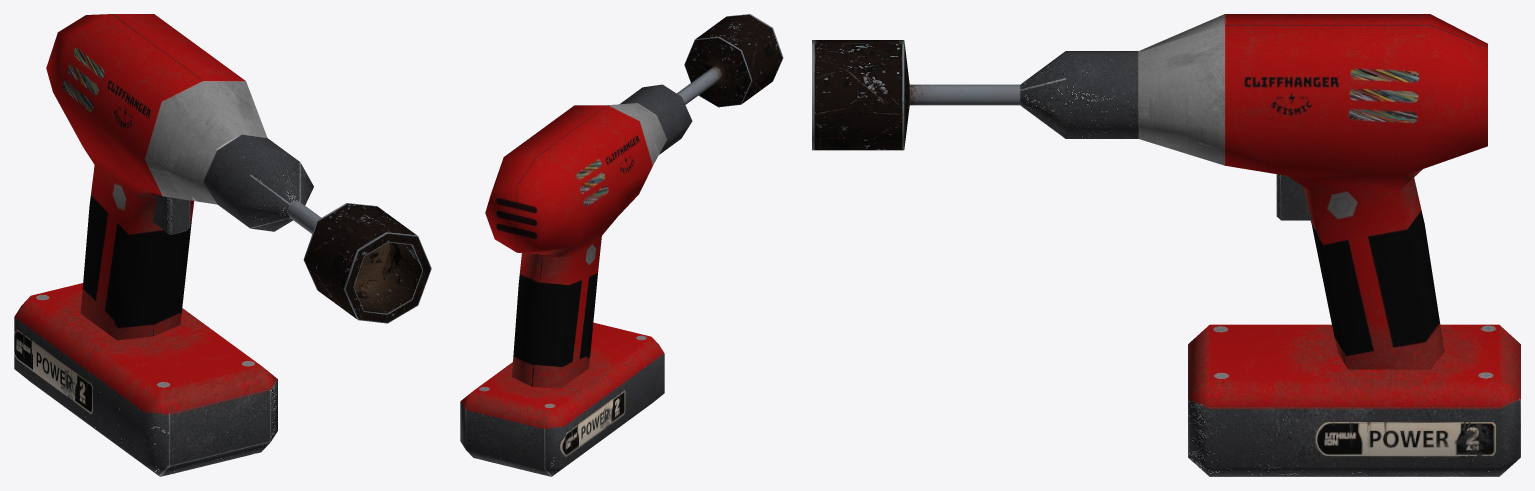
3 renders of one model, left to right at view 1: azimuth 30°, elevation 25°; view 2: azimuth 150°, elevation 25°; view 3: azimuth 270°, elevation 25°, orthographic. The views are drawn at different scales.
Visible parts, largest first — view 1: drill_geo polySurface111 polySurface110, drill_geo polySurface109, polySurface113 polySurface108 drill_geo polySurface119 polyS, drill_geo polySurface110 polySurface112, polySurface113 polySurface108 drill_geo polySurface116 polyS, drill_geo polySurface107, polySurface115 polySurface113 polySurface108 drill_geo, polySurface108 drill_geo polySurface114; view 2: drill_geo polySurface111 polySurface110, drill_geo polySurface109, polySurface113 polySurface108 drill_geo polySurface119 polyS, polySurface113 polySurface108 drill_geo polySurface116 poly, drill_geo polySurface110 polySurface112, polySurface108 drill_geo polySurface114; view 3: drill_geo polySurface111 polySurface110, drill_geo polySurface109, polySurface113 polySurface108 drill_geo polySurface119 polyS, drill_geo polySurface110 polySurface112, polySurface108 drill_geo polySurface114, drill_geo polySurface107.
Boxes of the visible parts, left/top/right/bottom form: drill_geo polySurface111 polySurface110: left=46, top=14, right=267, bottom=340; drill_geo polySurface109: left=14, top=283, right=277, bottom=476; polySurface113 polySurface108 drill_geo polySurface119 polyS: left=303, top=203, right=422, bottom=319; drill_geo polySurface110 polySurface112: left=203, top=134, right=313, bottom=231; polySurface113 polySurface108 drill_geo polySurface116 polyS: left=344, top=233, right=431, bottom=323; drill_geo polySurface107: left=152, top=194, right=190, bottom=234; polySurface115 polySurface113 polySurface108 drill_geo: left=354, top=242, right=390, bottom=290; polySurface108 drill_geo polySurface114: left=287, top=201, right=321, bottom=233; drill_geo polySurface111 polySurface110: left=485, top=103, right=666, bottom=388; drill_geo polySurface109: left=460, top=322, right=664, bottom=476; polySurface113 polySurface108 drill_geo polySurface119 polyS: left=695, top=14, right=783, bottom=104; polySurface113 polySurface108 drill_geo polySurface116 poly: left=684, top=37, right=751, bottom=107; drill_geo polySurface110 polySurface112: left=620, top=84, right=692, bottom=154; polySurface108 drill_geo polySurface114: left=677, top=67, right=721, bottom=104; drill_geo polySurface111 polySurface110: left=1139, top=14, right=1487, bottom=369; drill_geo polySurface109: left=1188, top=324, right=1520, bottom=476; polySurface113 polySurface108 drill_geo polySurface119 polyS: left=812, top=40, right=904, bottom=150; drill_geo polySurface110 polySurface112: left=1020, top=51, right=1138, bottom=138; polySurface108 drill_geo polySurface114: left=909, top=84, right=1019, bottom=105; drill_geo polySurface107: left=1276, top=174, right=1311, bottom=220.
Bounding box in the file's own units: 0.1023 × 0.2756 × 0.4174.
1 material, 1 textured.
